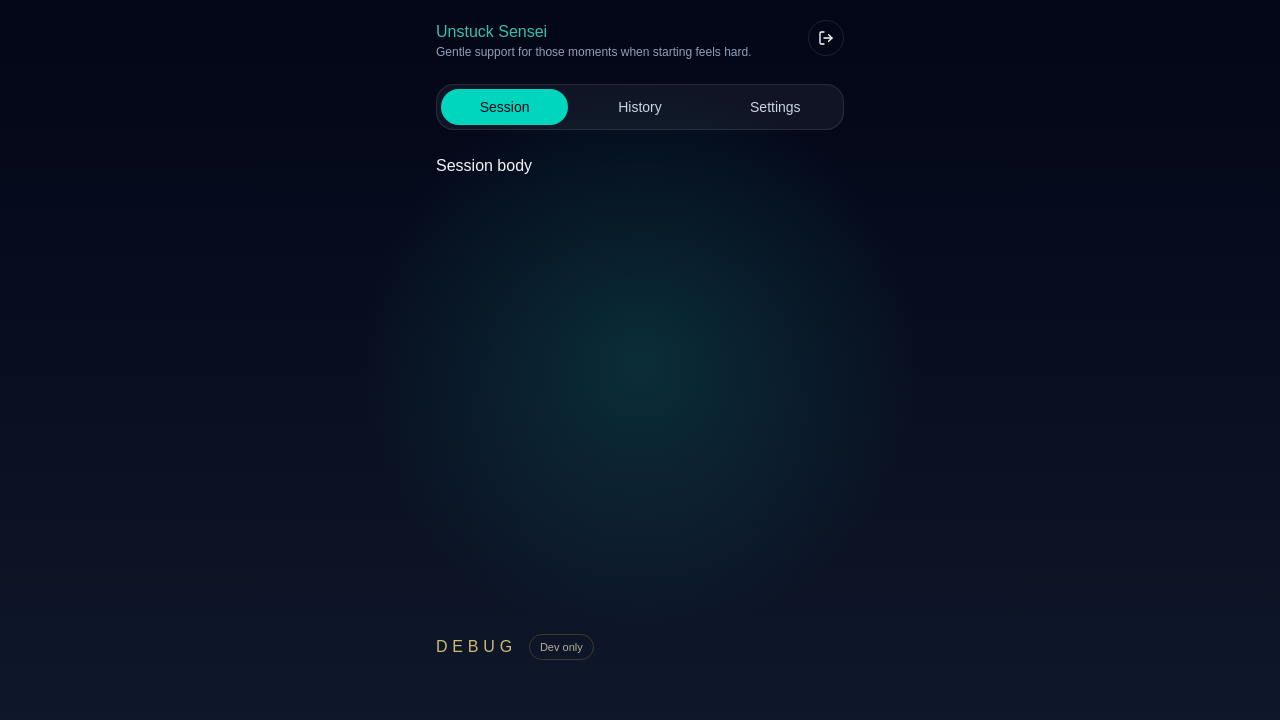
Test: Layout › shows a dev-only debug toggle at the bottom and expands the panel on demand
The image size is (1280, 720).
Check: the text "Dev only" is shown, box [529,634,594,660]
Check: the text "Detection commands" is not shown
What coordinates should you click on to do the following:
click the button "Debug"
I would click on:
 (476, 647)
Its box is [436,635,517,659].
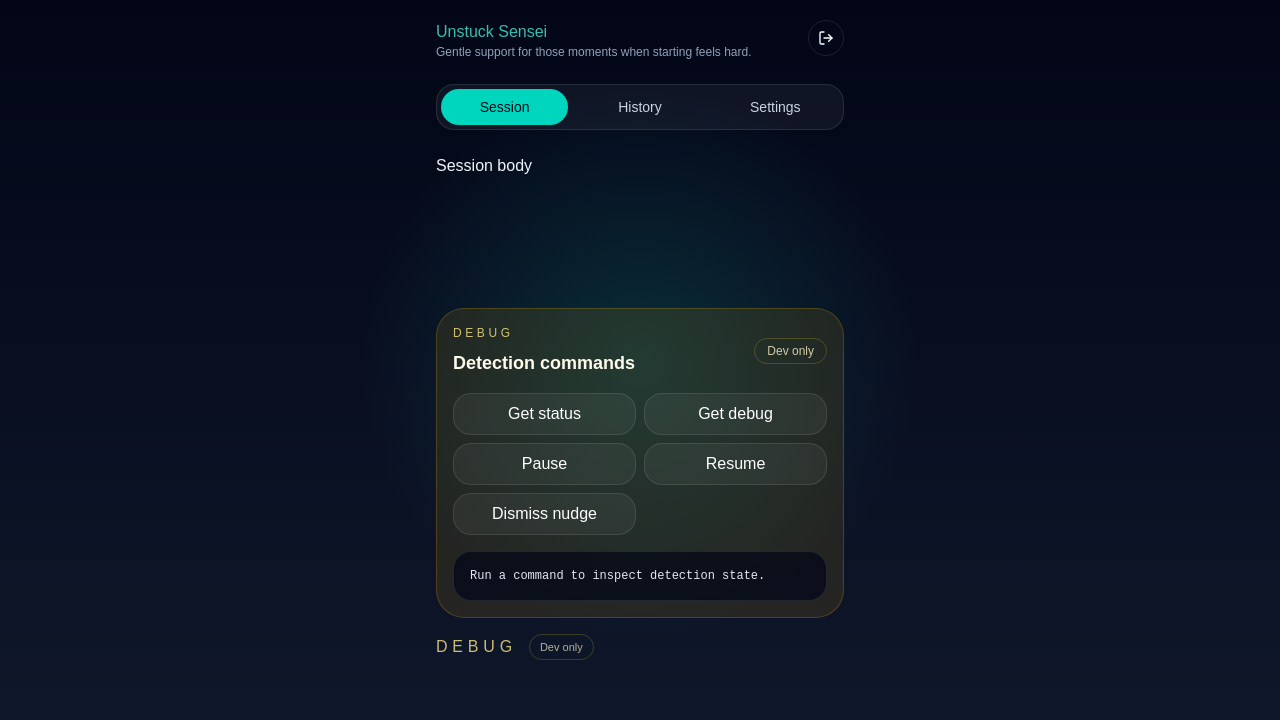
Check: the heading "Detection commands" is shown, box [453,348,635,376]
